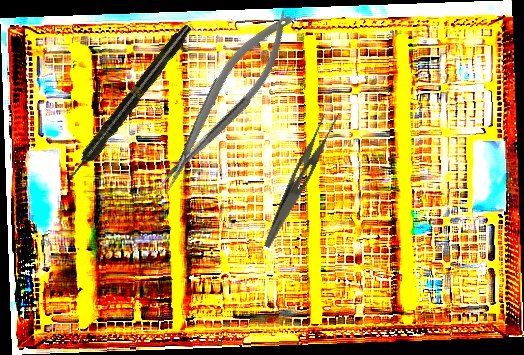Dressing Forceps: (263, 105, 342, 255)
Handpiece: (63, 21, 196, 183)
Needle Holder: (141, 2, 308, 199)
